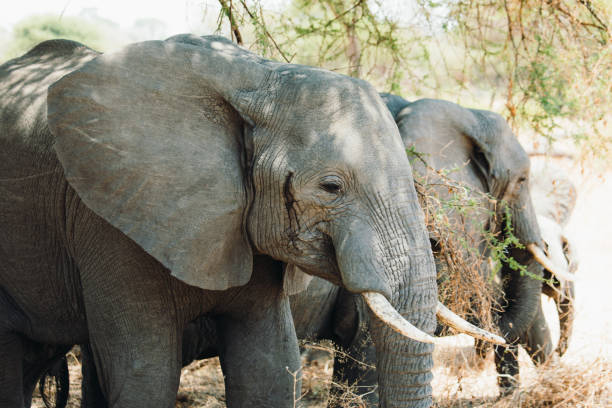africanelephant: (208, 69, 463, 361)
